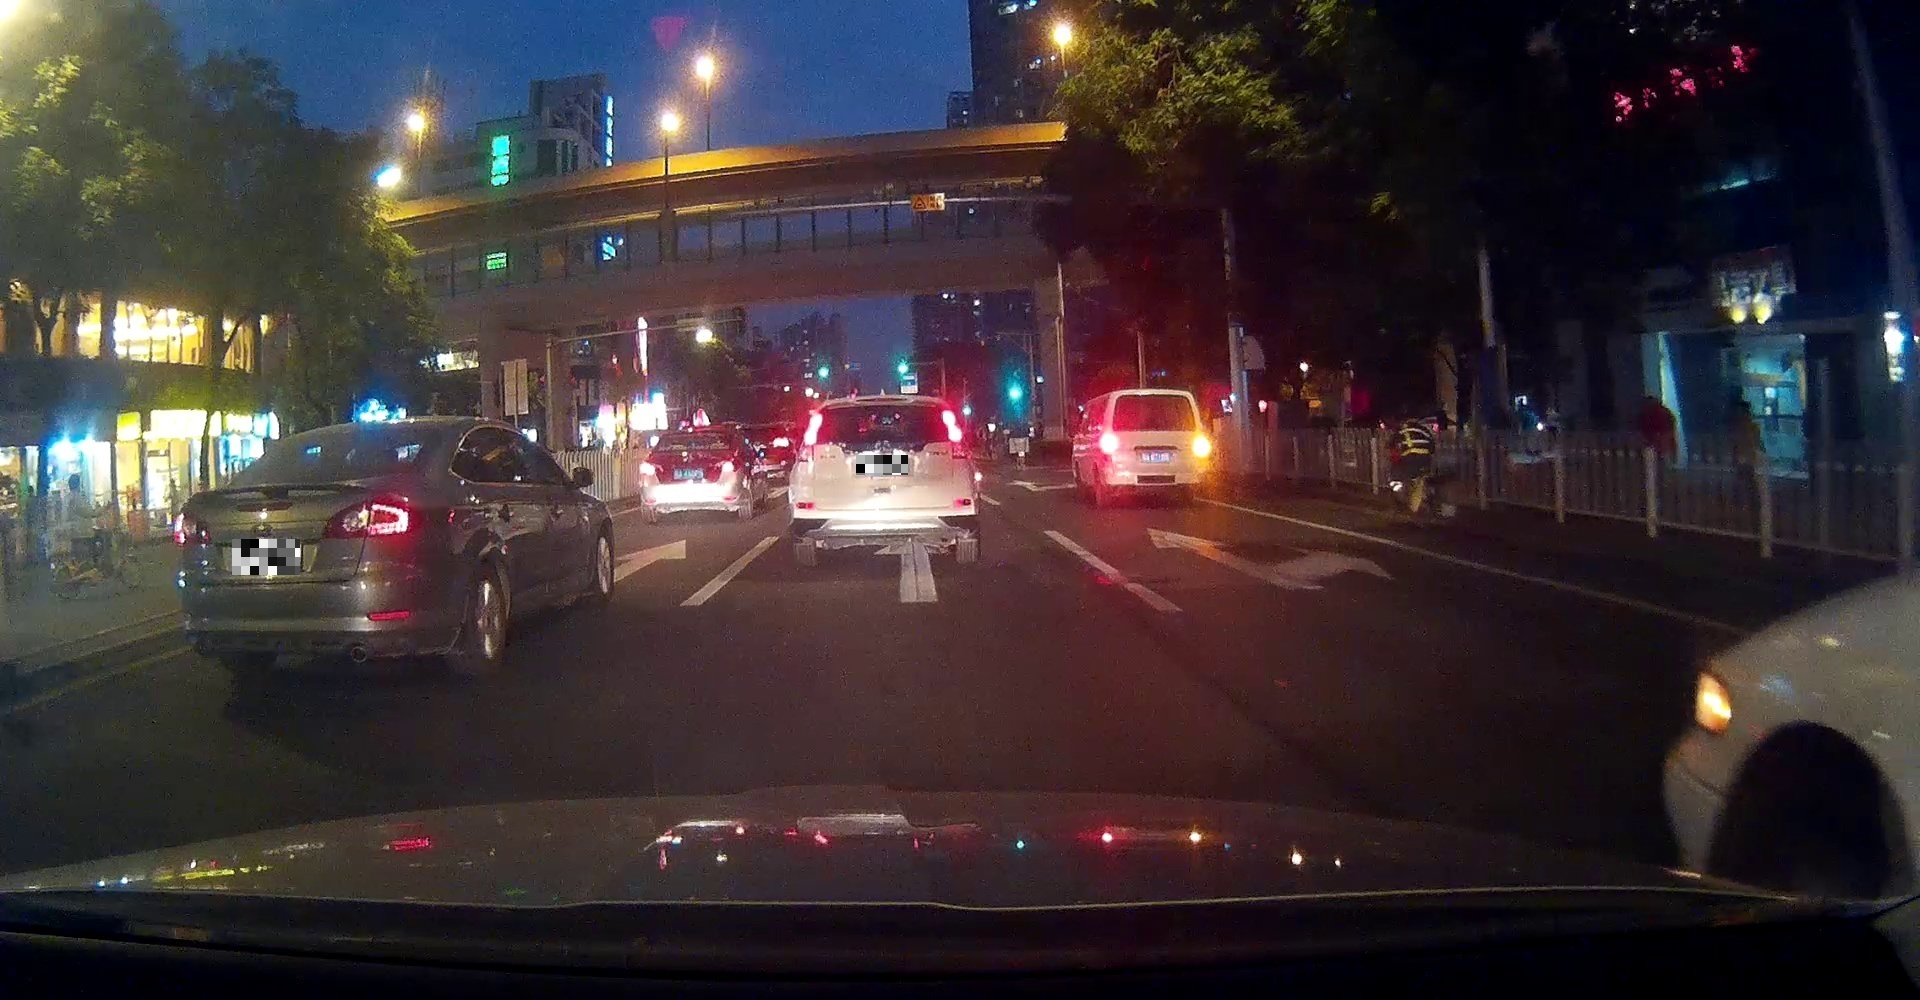L_light: (173, 511, 211, 547), (796, 412, 823, 462), (1098, 433, 1117, 454), (639, 461, 659, 476)
R_light: (323, 491, 424, 539), (941, 407, 971, 459), (1191, 435, 1211, 457), (716, 459, 742, 472)
T_light: (323, 430, 359, 439), (856, 398, 907, 401), (1145, 393, 1164, 398), (684, 433, 700, 437)
night-no: (173, 416, 448, 676), (787, 395, 982, 569), (639, 425, 745, 523)
night-right: (1098, 390, 1213, 508)
plate_1: (232, 539, 300, 575)
plate_2: (856, 456, 908, 475)
